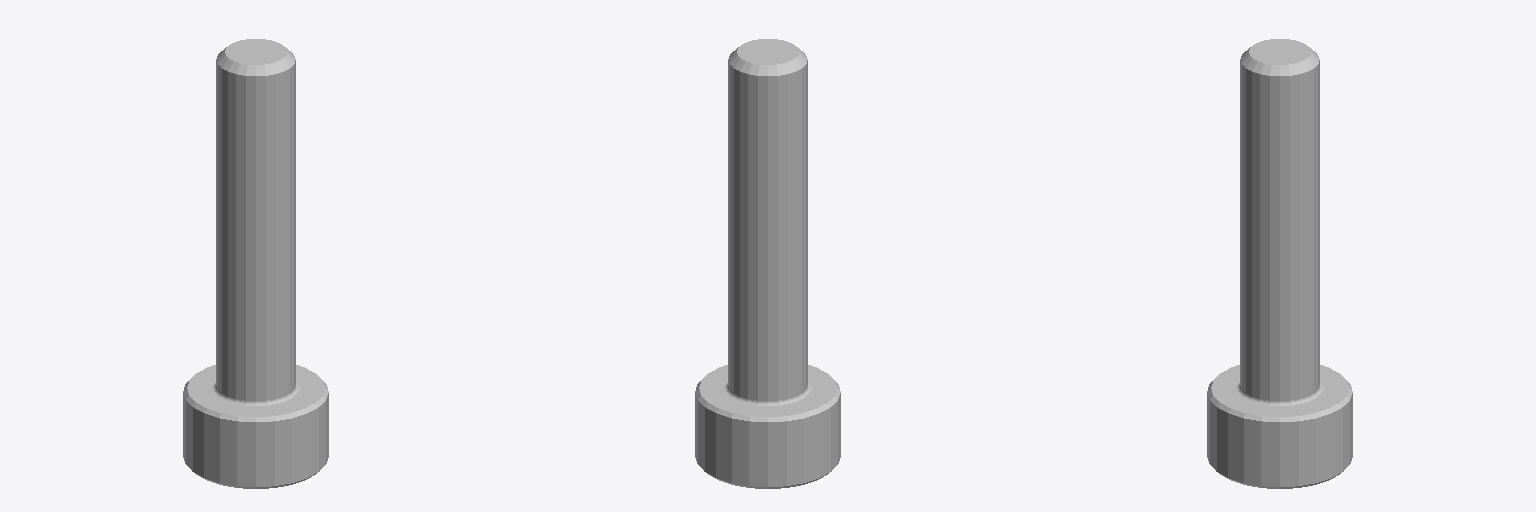
Rendered from _1290A119_Alloy_Steel_Socket_Head_Screw_23__1290A119_Alloy_Steel_Socket_Head_Screw.obj.
The picture shows the model from 3 angles: view 1: azimuth 30°, elevation 25°; view 2: azimuth 150°, elevation 25°; view 3: azimuth 270°, elevation 25°; orthographic projection.
Size of the model in its own units: 0.0055 by 0.017 by 0.0055.